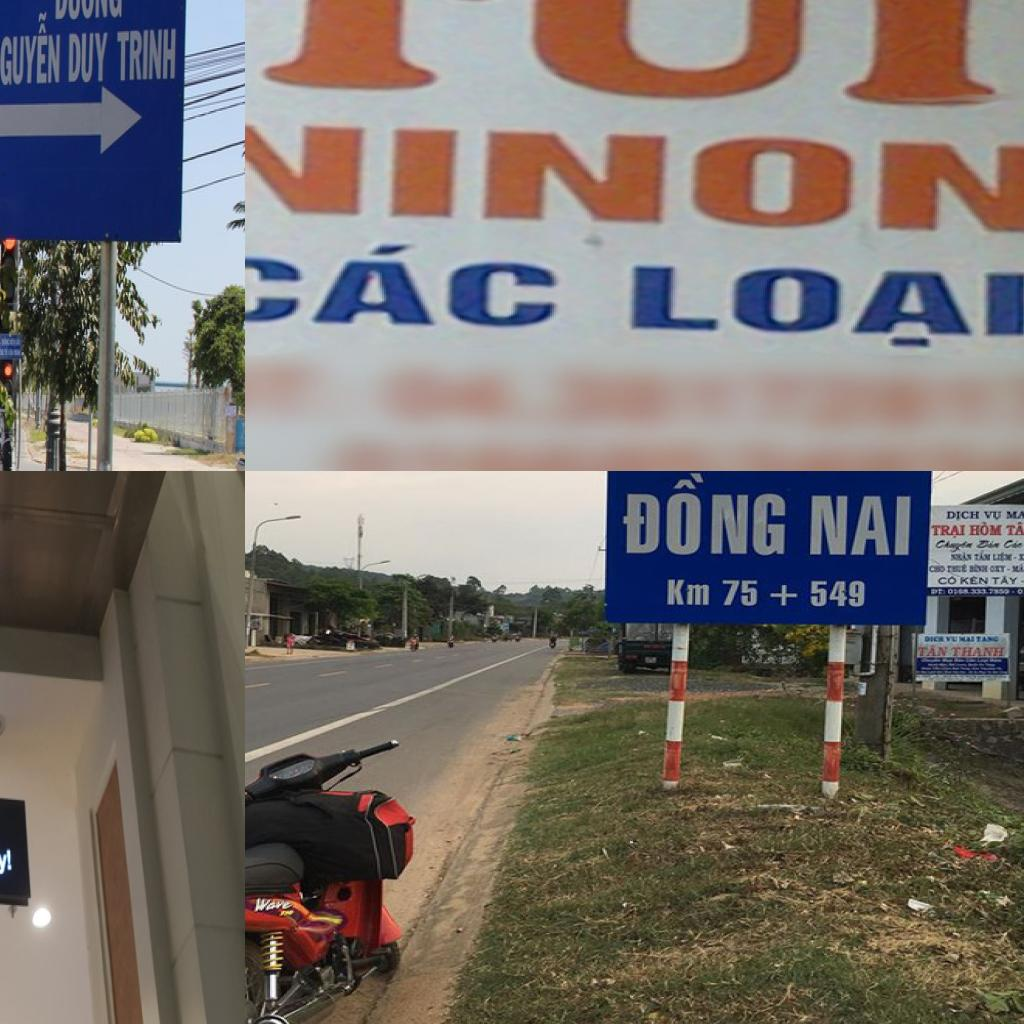text: (245, 116, 1024, 236), (245, 0, 1024, 111), (627, 264, 1024, 350), (245, 243, 562, 330), (616, 471, 790, 558), (802, 493, 916, 560), (0, 9, 62, 88), (68, 31, 110, 85), (661, 576, 715, 609), (805, 580, 866, 608), (53, 0, 124, 23), (717, 578, 762, 610), (250, 897, 298, 915), (950, 644, 1008, 658), (929, 523, 970, 541), (768, 585, 799, 608), (932, 538, 974, 554), (967, 522, 1004, 539), (0, 842, 14, 879), (917, 644, 950, 658), (959, 574, 990, 588), (991, 574, 1021, 588), (944, 511, 982, 522), (1002, 522, 1024, 537), (936, 574, 959, 588), (1000, 537, 1024, 550), (981, 508, 1004, 521), (948, 553, 974, 564), (1003, 509, 1024, 520), (988, 563, 1008, 574), (929, 587, 948, 597), (1010, 561, 1024, 574), (1016, 552, 1024, 562)
